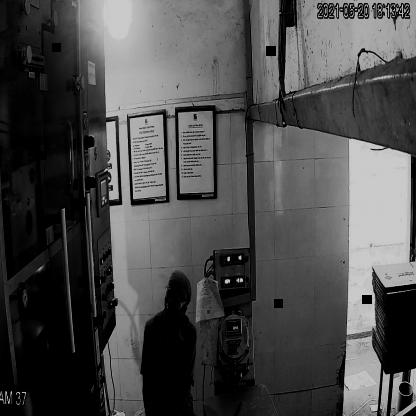goggles: (161, 284, 188, 313)
